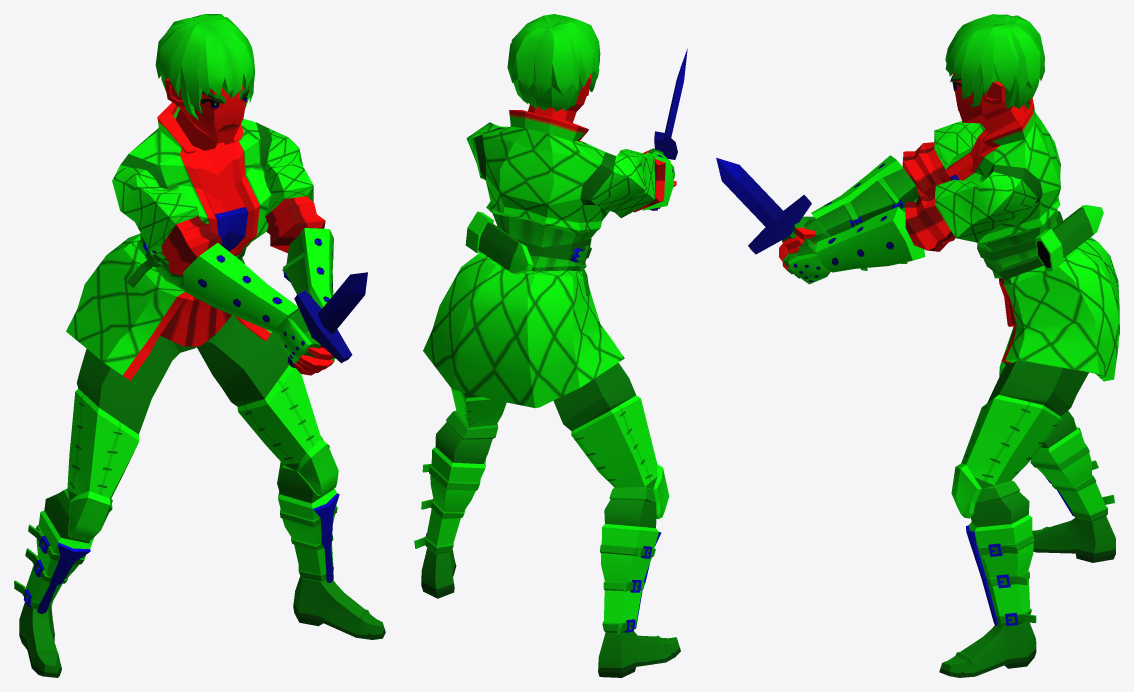
Rendered from F_Rogue_prePosed.fbx.
3 renders of one model, left to right at view 1: azimuth 30°, elevation 25°; view 2: azimuth 150°, elevation 25°; view 3: azimuth 270°, elevation 25°, orthographic. The views are drawn at different scales.
Visible parts, largest first — view 1: F_Rogue_prePosed; view 2: F_Rogue_prePosed; view 3: F_Rogue_prePosed.
Part boxes in pixels (x1,y1,x2,y2): F_Rogue_prePosed: [14, 14, 385, 677]; F_Rogue_prePosed: [414, 14, 687, 677]; F_Rogue_prePosed: [716, 14, 1119, 677].
Size of the model in its own units: 95.57 by 191 by 119.
